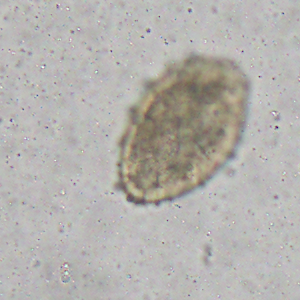Fasciola_hepatica_egg: (117, 53, 253, 205)
